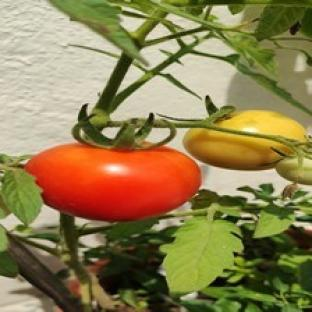Tomato: (26, 144, 200, 221), (184, 129, 289, 169), (276, 158, 311, 185)
